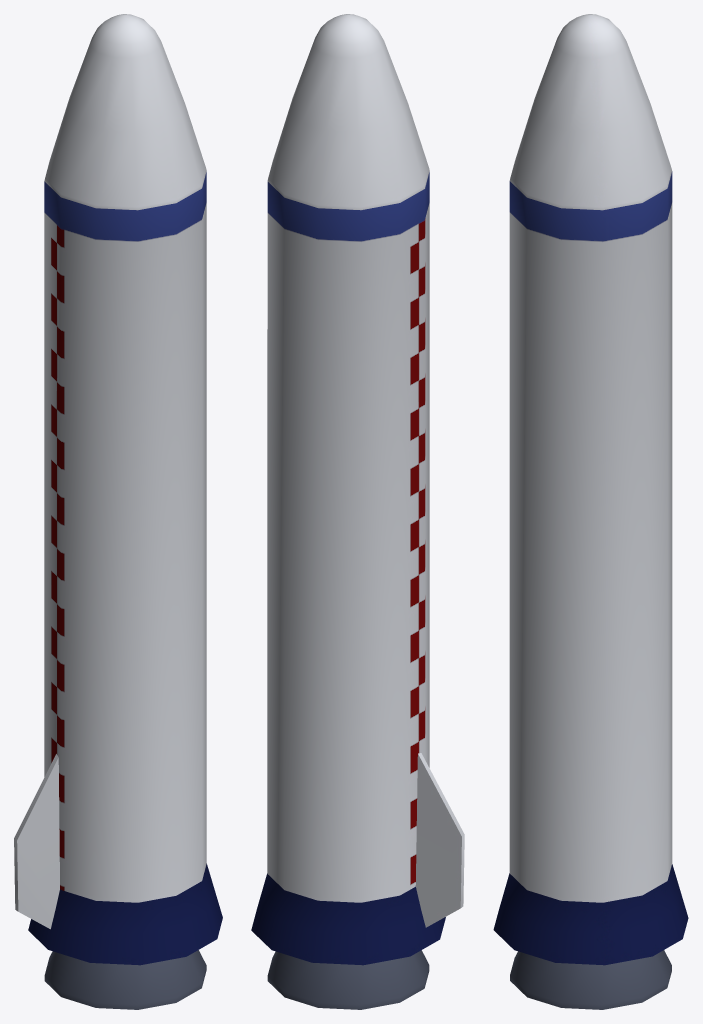
The model's file is ZhuTuiHuoJian.FBX.
3 renders of one model, left to right at view 1: azimuth 30°, elevation 25°; view 2: azimuth 150°, elevation 25°; view 3: azimuth 270°, elevation 25°, orthographic.
Visible parts, largest first — view 1: ZhuTuiHuoJian; view 2: ZhuTuiHuoJian; view 3: ZhuTuiHuoJian.
Part boxes in pixels (box(x1,y1,x2,y2)): ZhuTuiHuoJian: box(14, 14, 222, 1009); ZhuTuiHuoJian: box(251, 14, 464, 1009); ZhuTuiHuoJian: box(493, 14, 688, 1009).
Size of the model in its own units: 81.92 by 382 by 70.26.
